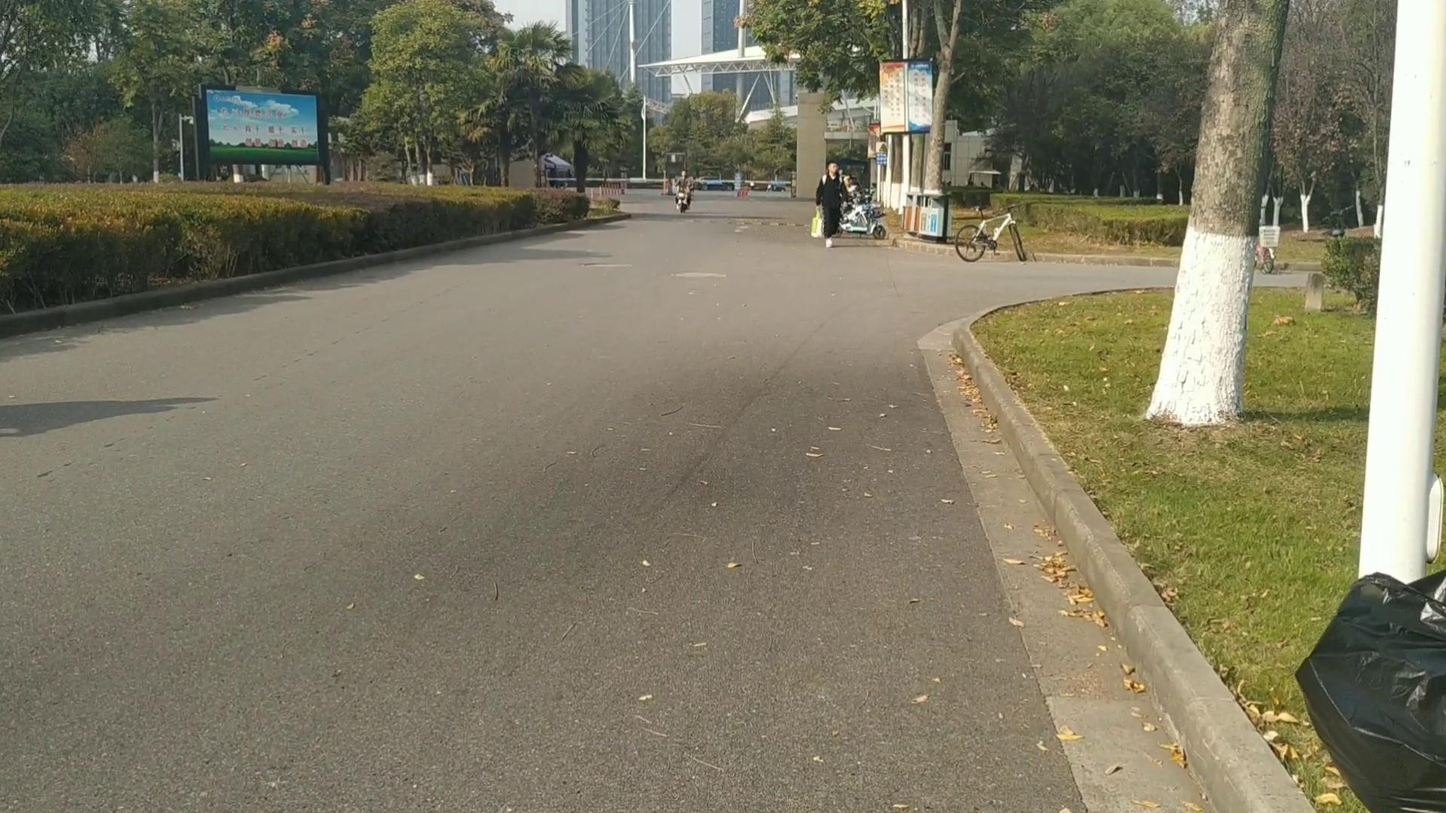car: (541, 153, 575, 184), (767, 176, 795, 196)
